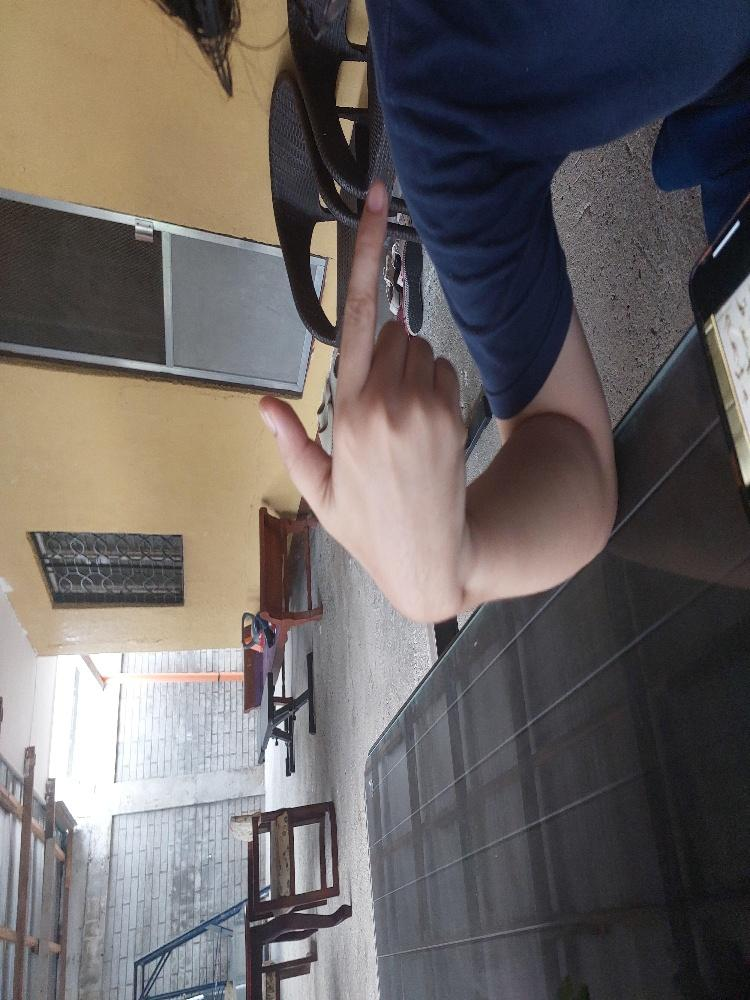g: (280, 339, 618, 628)
